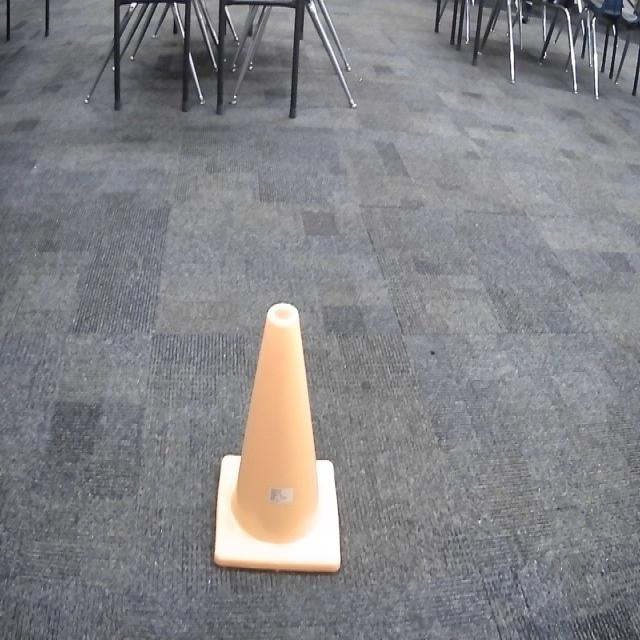cone: (210, 298, 343, 575)
